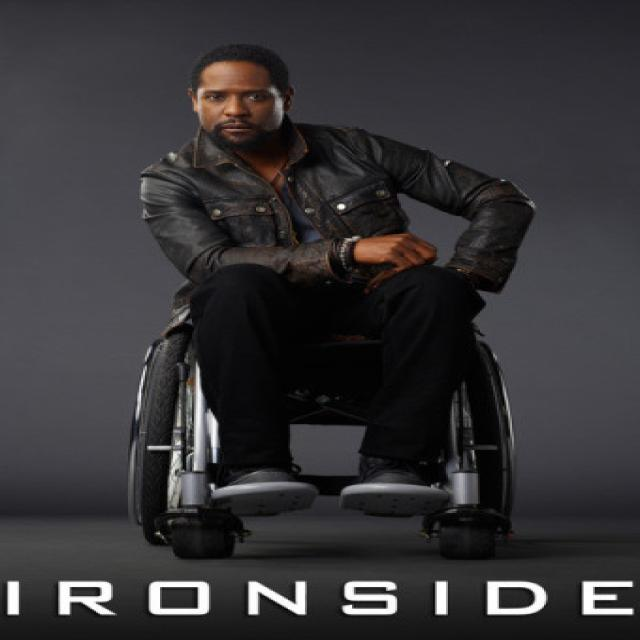wheelchair: (128, 37, 540, 565)
